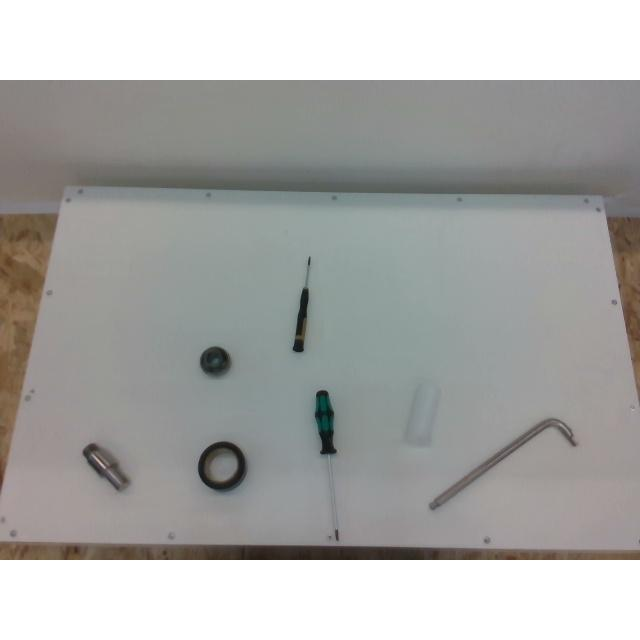AllenKey: (429, 418, 577, 509)
Axis2: (83, 442, 129, 490)
Bearing2: (200, 346, 230, 376)
Screwdriver: (314, 390, 338, 542)
Spacer: (404, 380, 440, 444)
